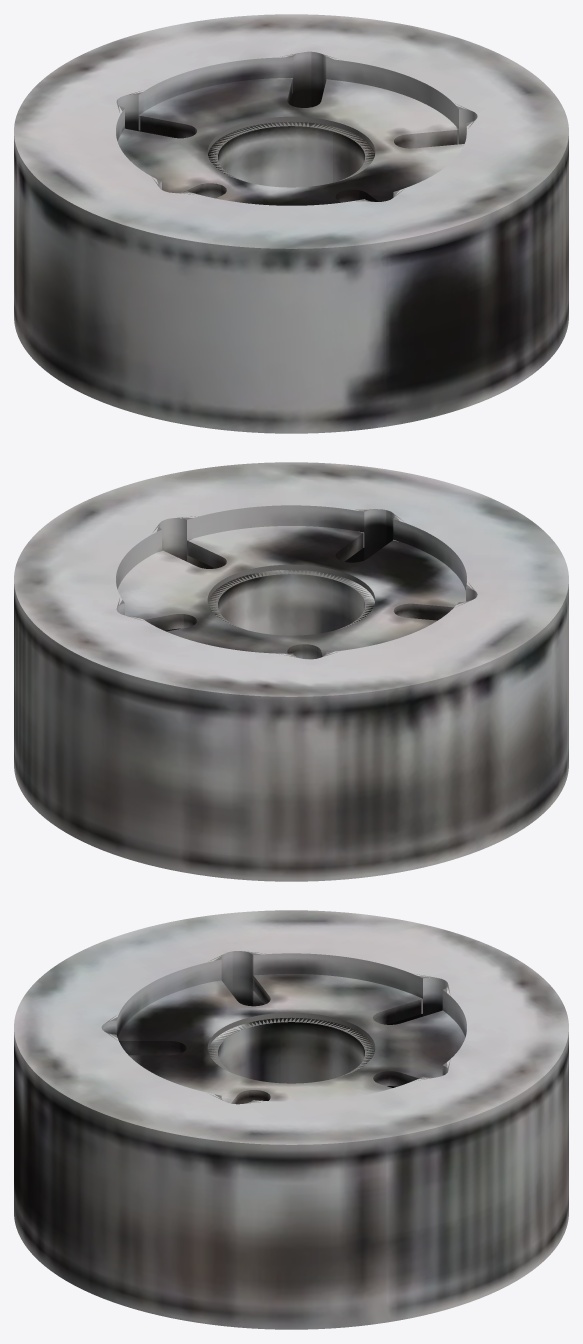
The model's file is transport_wheel_0__rim.glb.
3 views of the same model, one above another, from view 1: azimuth 30°, elevation 25°; view 2: azimuth 150°, elevation 25°; view 3: azimuth 270°, elevation 25° (orthographic).
Visible parts, largest first — view 1: world; view 2: world; view 3: world.
Boxes of the visible parts, left/top/right/bottom form: world: left=14, top=14, right=568, bottom=433; world: left=14, top=462, right=568, bottom=881; world: left=14, top=910, right=568, bottom=1329.
Bounding box in the file's own units: 0.098 × 0.036 × 0.098.
1 material, 1 textured.
